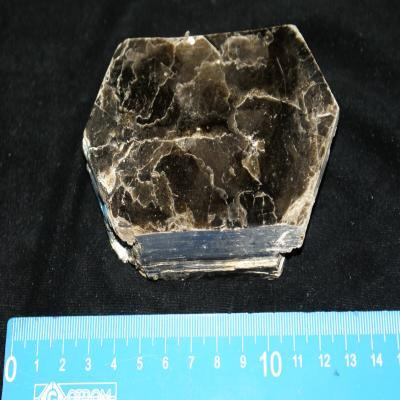mineralogy: (81, 24, 340, 282)
